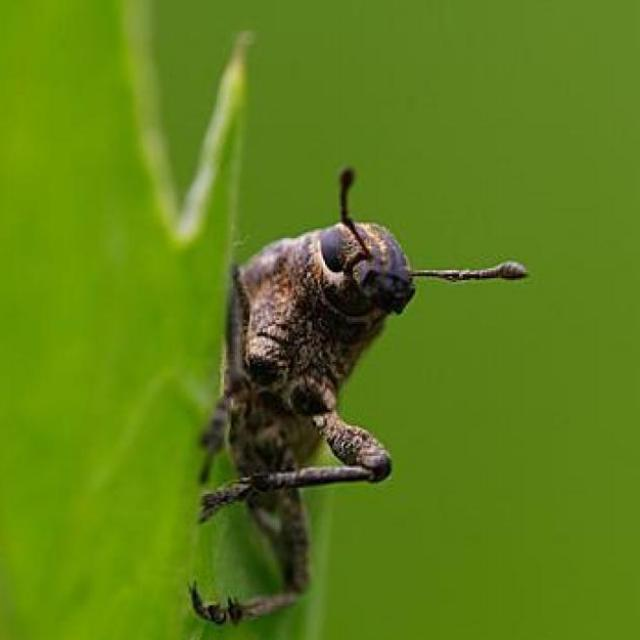ricebug: (200, 170, 415, 481), (229, 489, 310, 619)
